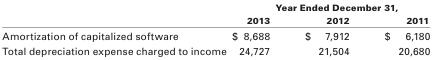table: (1, 1, 429, 56)
table column: (1, 1, 228, 56), (286, 1, 366, 56), (366, 1, 429, 56), (228, 1, 286, 56)
table column header: (1, 1, 429, 26)
table row: (1, 26, 429, 42), (1, 12, 429, 26), (1, 42, 429, 56), (1, 1, 429, 12)
table spanning cell: (228, 1, 429, 12)
